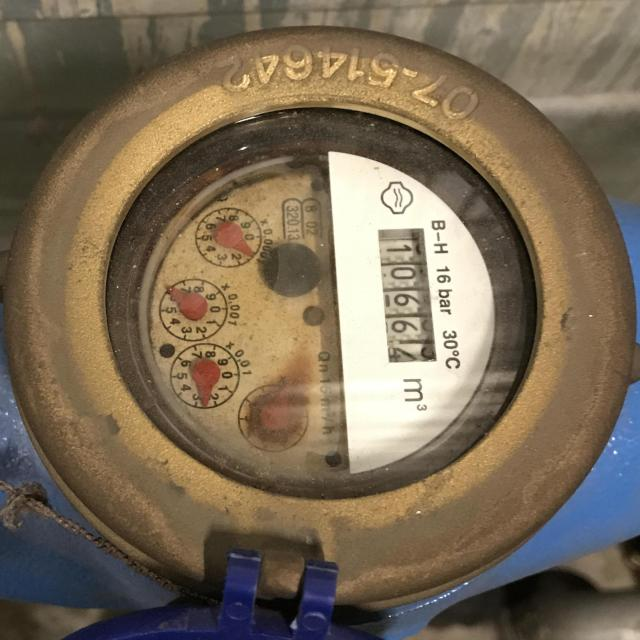gaz_meter: (103, 99, 535, 491)
indication: (373, 227, 437, 366)
